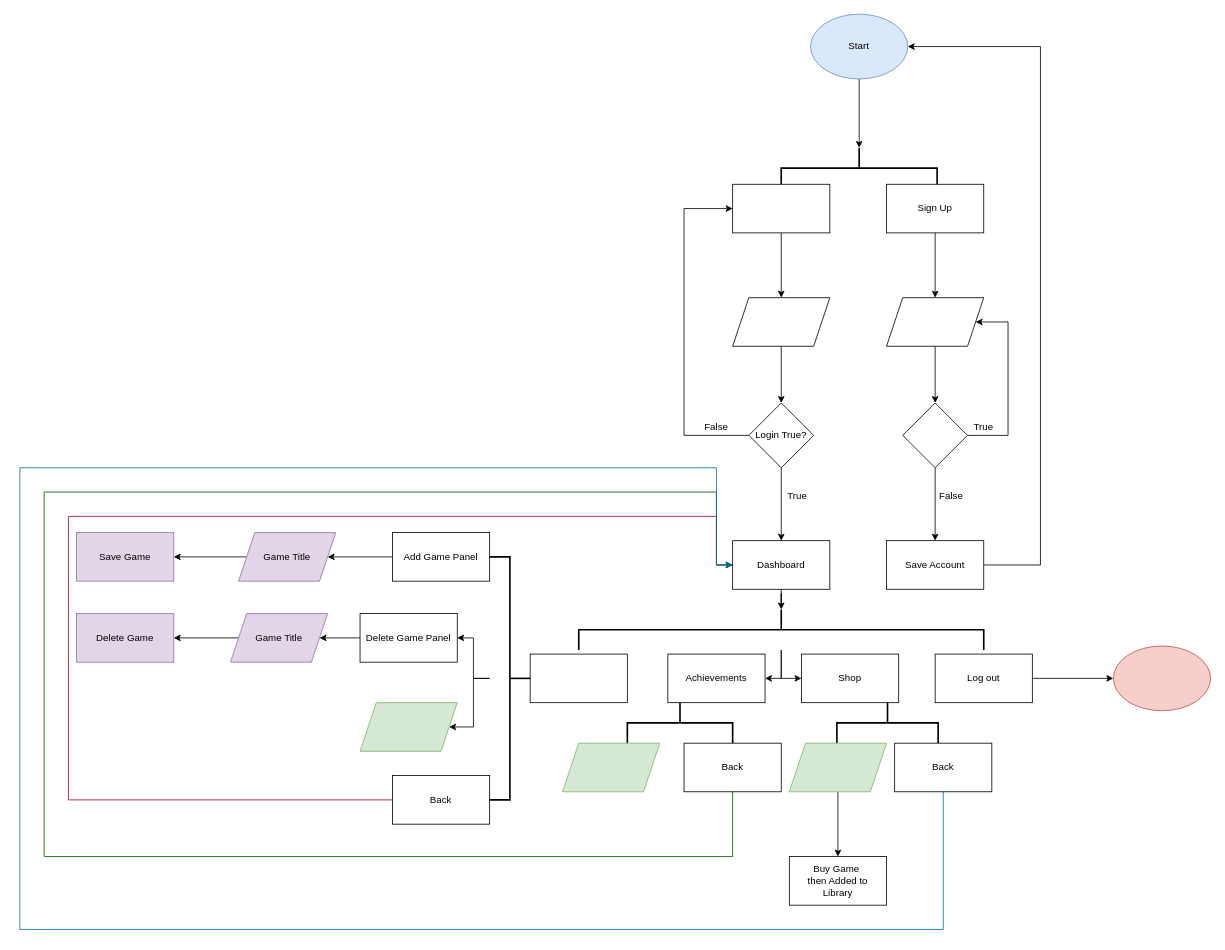
Image size: 1225x950. Some labels were removed from this diagram. Here are the shapes that lost their labels. From the top down, the centre of each, then its label:
At (781,208): "User Login".
At (781,321): "username password".
At (935,321): "username email password".
At (935,435): "Account Exist?".
At (578,678): "Games".
At (1162,678): "End".
At (408,726): "List of Games".
At (611,767): "List of Achievements".
At (838,767): "List of Games purchasable".
